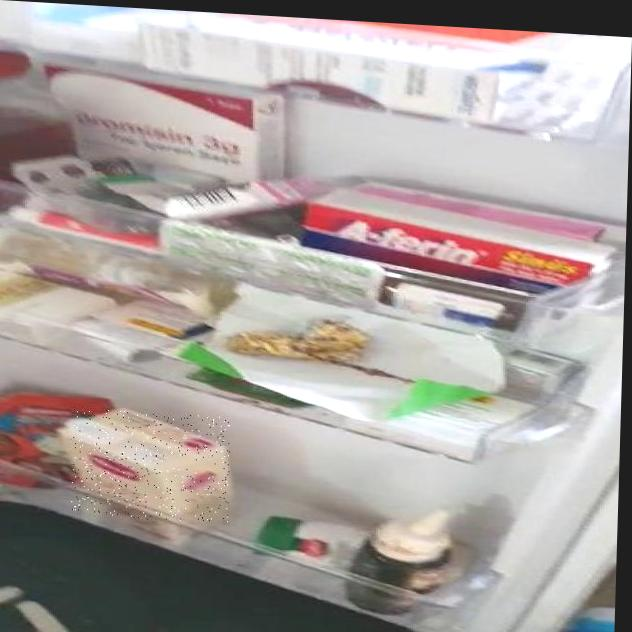milk: (71, 408, 231, 524)
